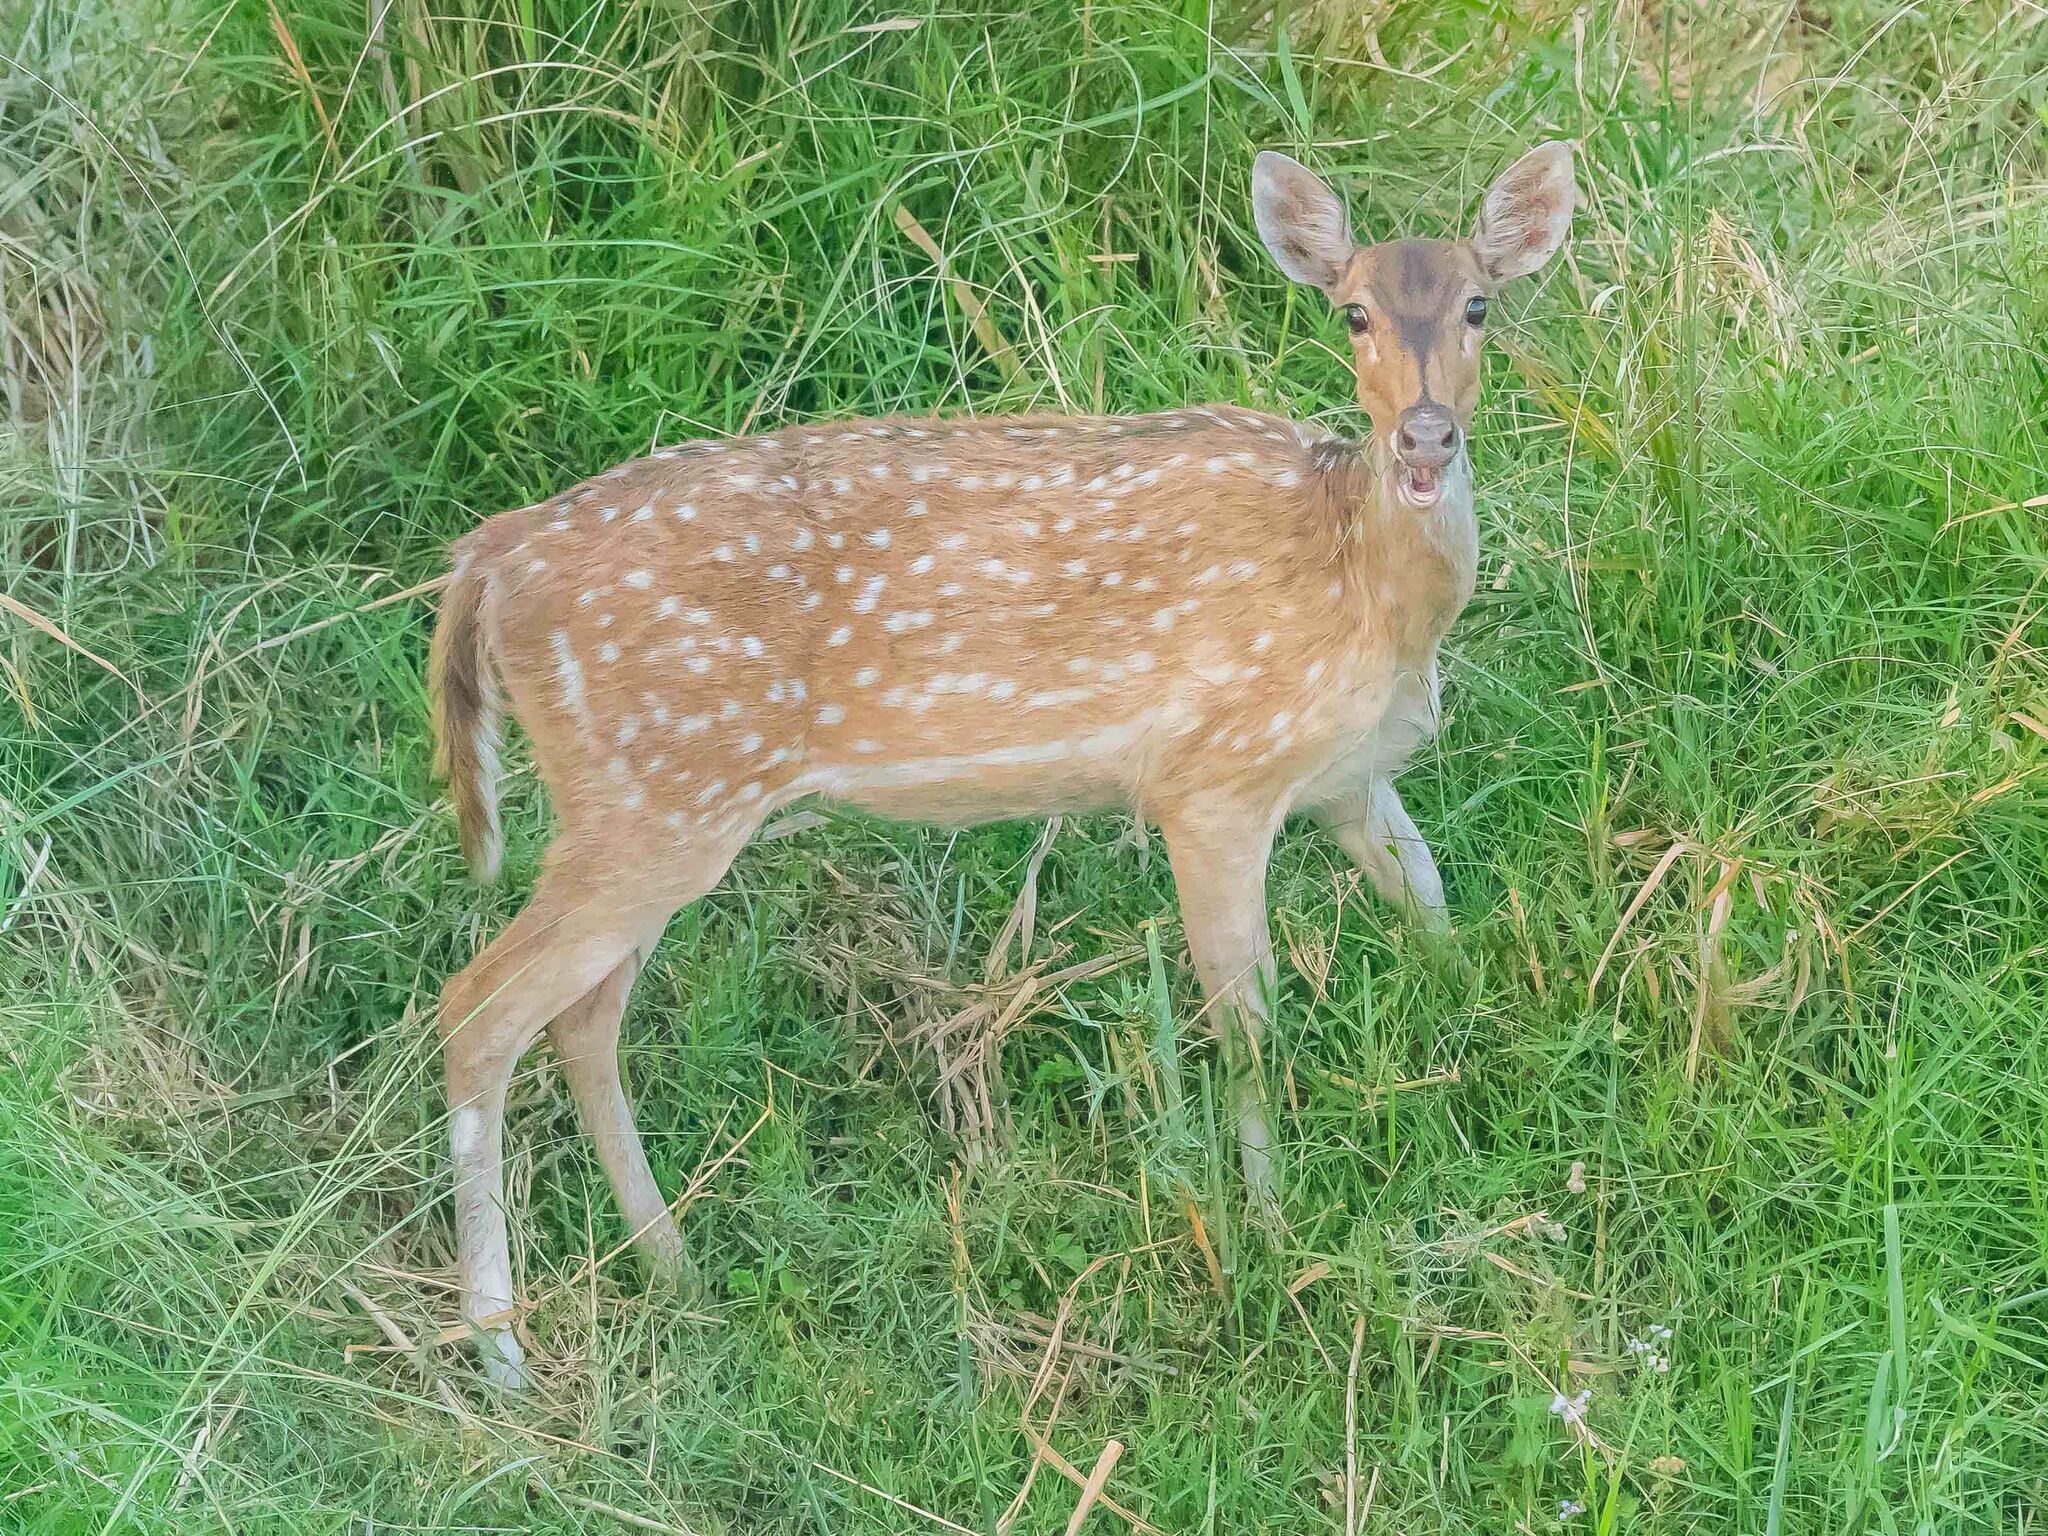Deer: (427, 144, 1579, 1386)
